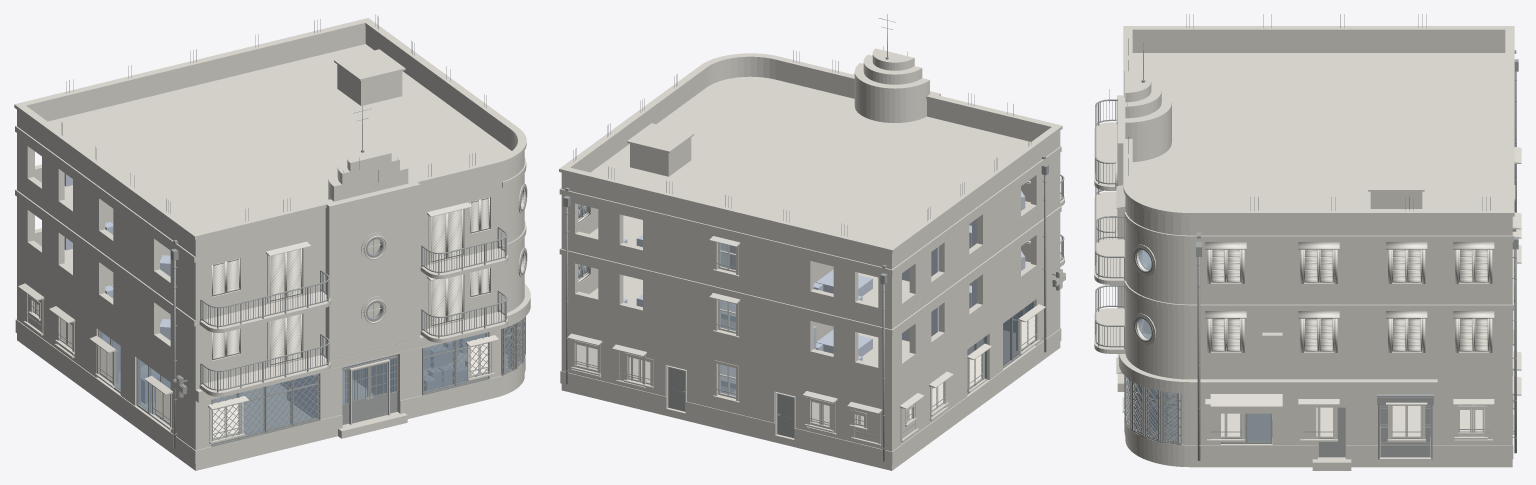
File: sarcelle_h08.glb
The picture shows the model from 3 angles, left to right: view 1: azimuth 30°, elevation 25°; view 2: azimuth 150°, elevation 25°; view 3: azimuth 270°, elevation 25°; orthographic projection. The views are drawn at different scales.
Visible parts, largest first — view 1: Shell_ExtWalls, Shell_Slabs, plaster_cream_warm, Attika_Closed, Corr1_Front_Lamellenlaeden, Shell_BalconySlabs, new_tile_plinth_teal, ShopFront_Glass, ShopFront_ScissorGrilles, Dtl_Balkon_Gelaender_Staebe, Shell_Tower, Shell_RoofBlock (+13 smaller); view 2: Shell_ExtWalls, Shell_Slabs, Attika_Closed, plaster_cream_warm, new_tile_plinth_teal, Shell_Tower, shutter_paint, Shell_RoofBlock, glass, Dtl_Fallrohre, painted_timber_warmgrey, steel_painted_worn (+4 smaller); view 3: Shell_Slabs, Shell_ExtWalls, Attika_Closed, plaster_cream_warm, Corr1_East_Lamellenlaeden, Shell_BalconySlabs, Corr1_East_Faschen_Hauben, new_tile_plinth_teal, Shell_Tower, shutter_paint, Shell_RoofBlock, Dtl_Fallrohre (+13 smaller).
Boxes of the visible parts, x1,y1,x2,y2 form: Shell_ExtWalls: (17,44,524,470); Shell_Slabs: (49,45,510,268); plaster_cream_warm: (14,18,530,443); Attika_Closed: (14,18,526,256); Corr1_Front_Lamellenlaeden: (212,197,489,365); Shell_BalconySlabs: (199,248,508,396); new_tile_plinth_teal: (15,319,525,463); ShopFront_Glass: (213,321,519,440); ShopFront_ScissorGrilles: (211,317,525,446); Dtl_Balkon_Gelaender_Staebe: (201,230,507,390); Shell_Tower: (328,148,408,201); Shell_RoofBlock: (334,49,405,105); Shell_ExtWalls: (561,76,1060,470); Shell_Slabs: (590,77,1030,364); Attika_Closed: (561,53,1062,269); plaster_cream_warm: (559,53,1062,446); new_tile_plinth_teal: (560,328,1061,464); Shell_Tower: (854,48,929,122); shutter_paint: (575,315,1035,426); Shell_RoofBlock: (627,123,694,176); glass: (720,243,1033,396); Dtl_Fallrohre: (563,156,1048,461); painted_timber_warmgrey: (666,243,1019,435); steel_painted_worn: (575,252,1037,437); Shell_Slabs: (1133,53,1504,347); Shell_ExtWalls: (1125,53,1512,467); Attika_Closed: (1123,26,1514,235); plaster_cream_warm: (1115,26,1521,441); Corr1_East_Lamellenlaeden: (1210,249,1488,351); Shell_BalconySlabs: (1094,122,1125,353); Corr1_East_Faschen_Hauben: (1205,242,1494,352); new_tile_plinth_teal: (1124,346,1513,459); Shell_Tower: (1125,71,1171,161); shutter_paint: (1221,405,1484,438); Shell_RoofBlock: (1368,166,1424,208); Dtl_Fallrohre: (1196,50,1518,460).
Bounding box in the file's own units: 17.92 × 14.7 × 16.55.
